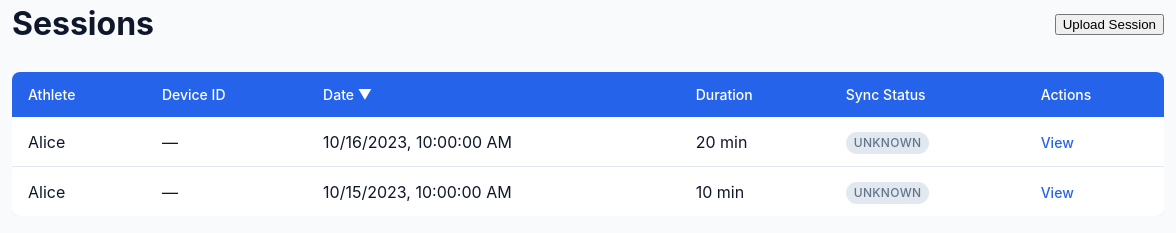
Test case: SessionsPage › sorts sessions by date when header is clicked
Expected: the row "Alice — 10/16/2023, 10:00:00 AM 20 min Unknown View" is shown, [12,117,1164,166]
Expected: the row "Alice — 10/15/2023, 10:00:00 AM 10 min Unknown View" is shown, [12,166,1164,216]
Step 1. Click the button "Date ▼" → (348, 94), box [323,84,372,105]
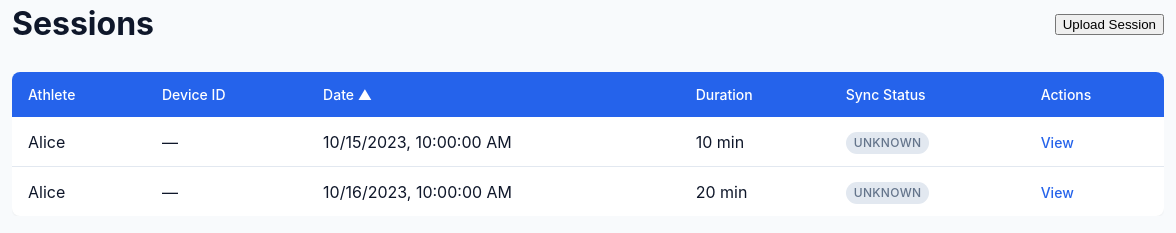
Expected: the row "Alice — 10/15/2023, 10:00:00 AM 10 min Unknown View" is shown, [12,117,1164,166]
Expected: the button "Date ▲" is shown, [323,84,372,105]
